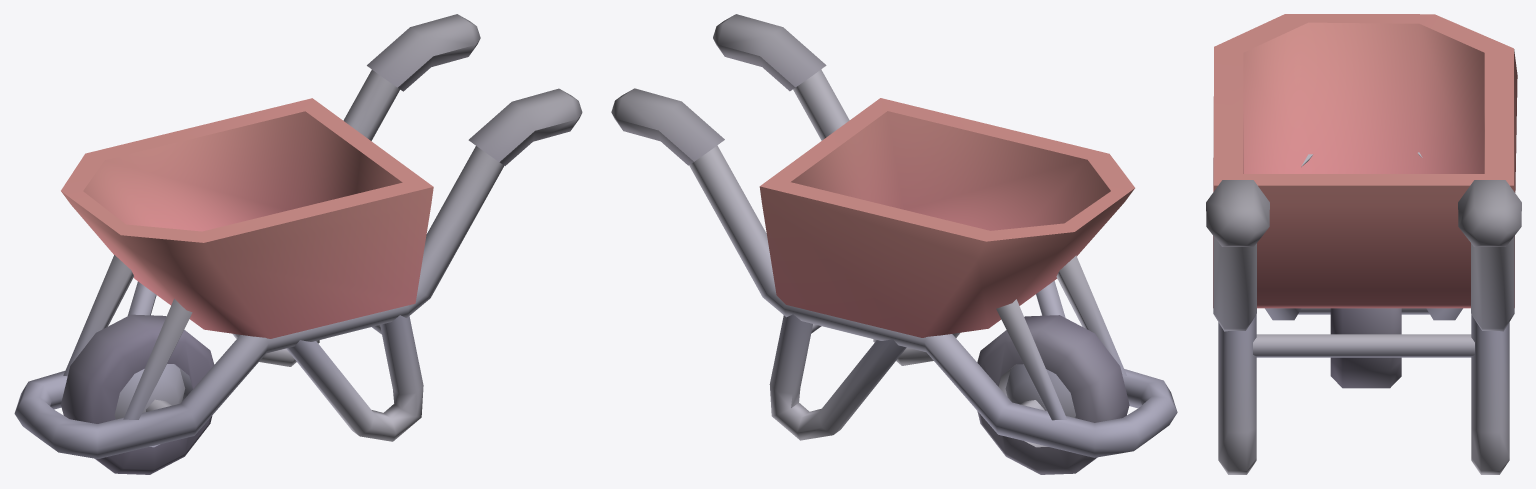
The model's file is wheelbarrow.glb.
3 renders of one model, left to right at view 1: azimuth 30°, elevation 25°; view 2: azimuth 150°, elevation 25°; view 3: azimuth 270°, elevation 25°, orthographic. The views are drawn at different scales.
Visible parts, largest first — view 1: wheelbarrow; view 2: wheelbarrow; view 3: wheelbarrow.
Boxes of the visible parts, left/top/right/bottom form: wheelbarrow: left=14, top=14, right=582, bottom=474; wheelbarrow: left=611, top=14, right=1177, bottom=474; wheelbarrow: left=1206, top=14, right=1521, bottom=474.
Size of the model in its own units: 1.2 by 0.7464 by 0.5367.
